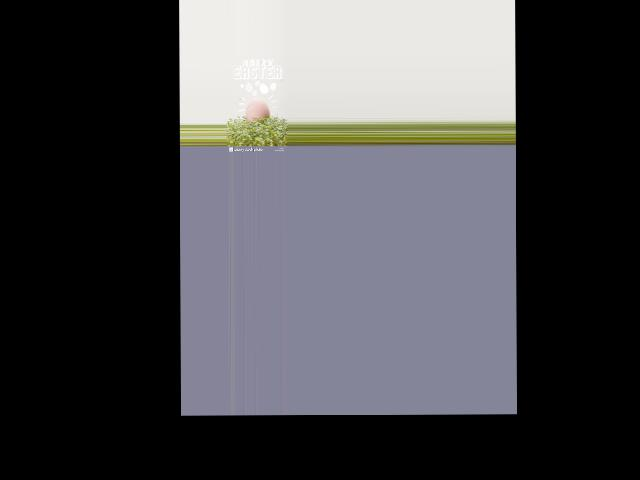egg: (246, 98, 271, 122)
